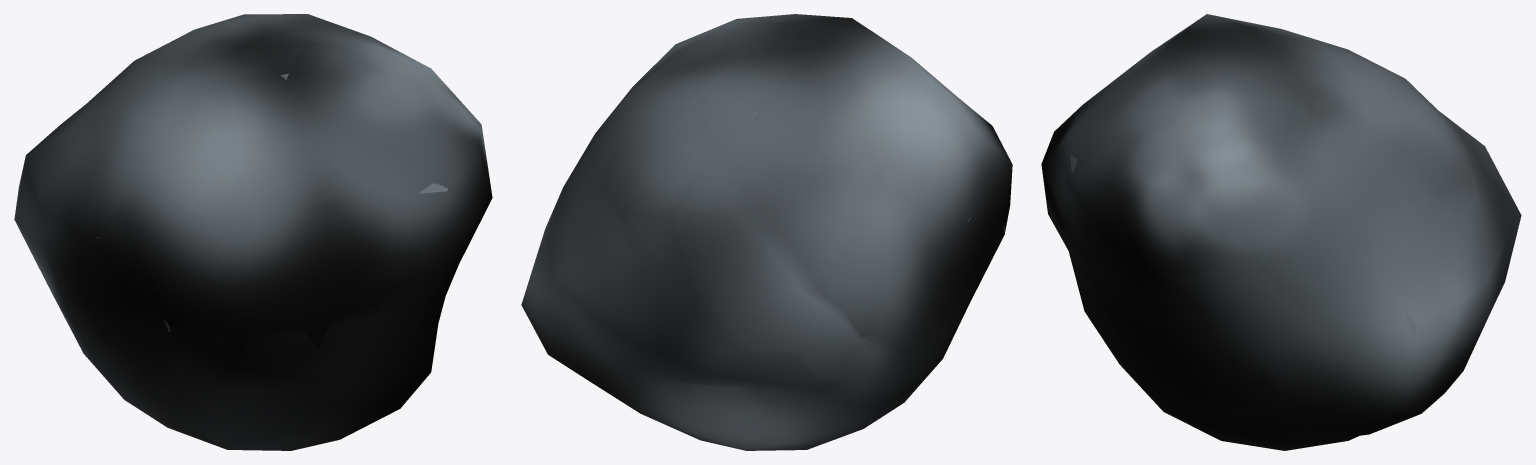
Rendered from asteroid.glb.
The picture shows the model from 3 angles, left to right: view 1: azimuth 30°, elevation 25°; view 2: azimuth 150°, elevation 25°; view 3: azimuth 270°, elevation 25°; orthographic projection. The views are drawn at different scales.
Visible parts, largest first — view 1: Icosphere; view 2: Icosphere; view 3: Icosphere.
Boxes of the visible parts, x1,y1,x2,y2 form: Icosphere: (14, 14, 492, 450); Icosphere: (521, 14, 1012, 450); Icosphere: (1041, 14, 1521, 450).
Size of the model in its own units: 2.05 by 2.07 by 2.33.
1 material, 1 textured.
